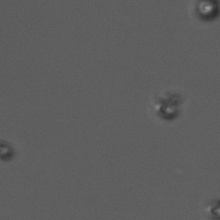Dead Cell: (153, 95, 181, 120), (195, 1, 218, 18), (1, 140, 15, 161)
